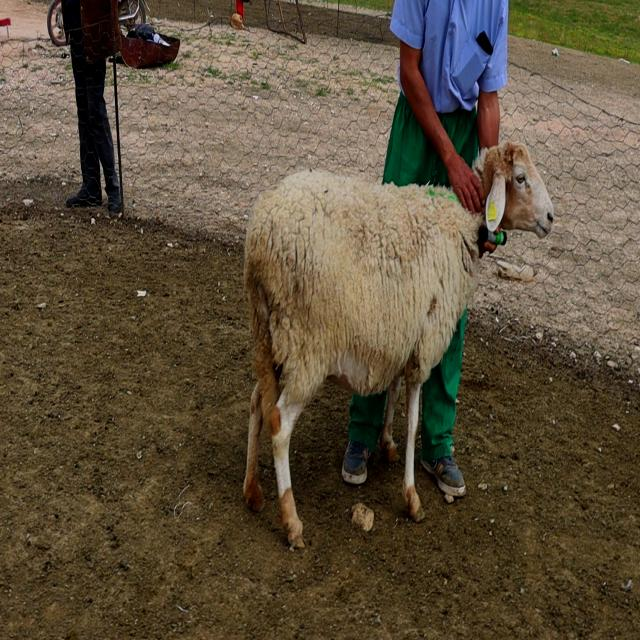Score_5: (243, 140, 554, 548)
